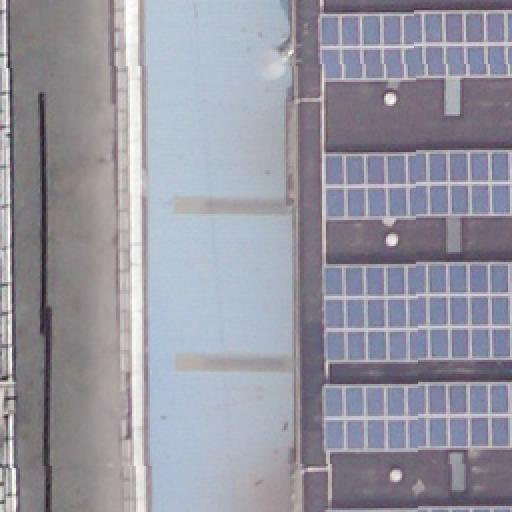solar-panel: (326, 263, 512, 361), (324, 13, 512, 83), (324, 150, 512, 218), (326, 382, 512, 450), (328, 505, 512, 511)
